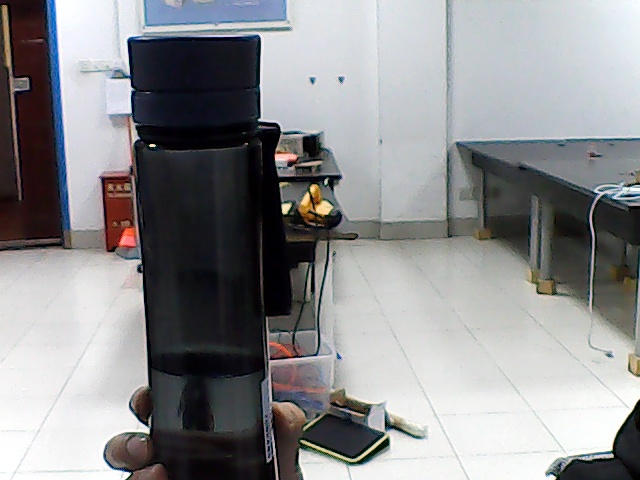cup: (142, 39, 259, 443)
